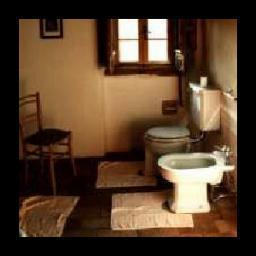Sanitario: (143, 85, 218, 151), (155, 151, 224, 212)
